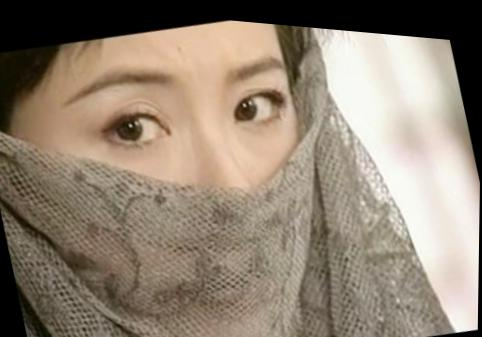WRONG: (22, 17, 360, 337)
